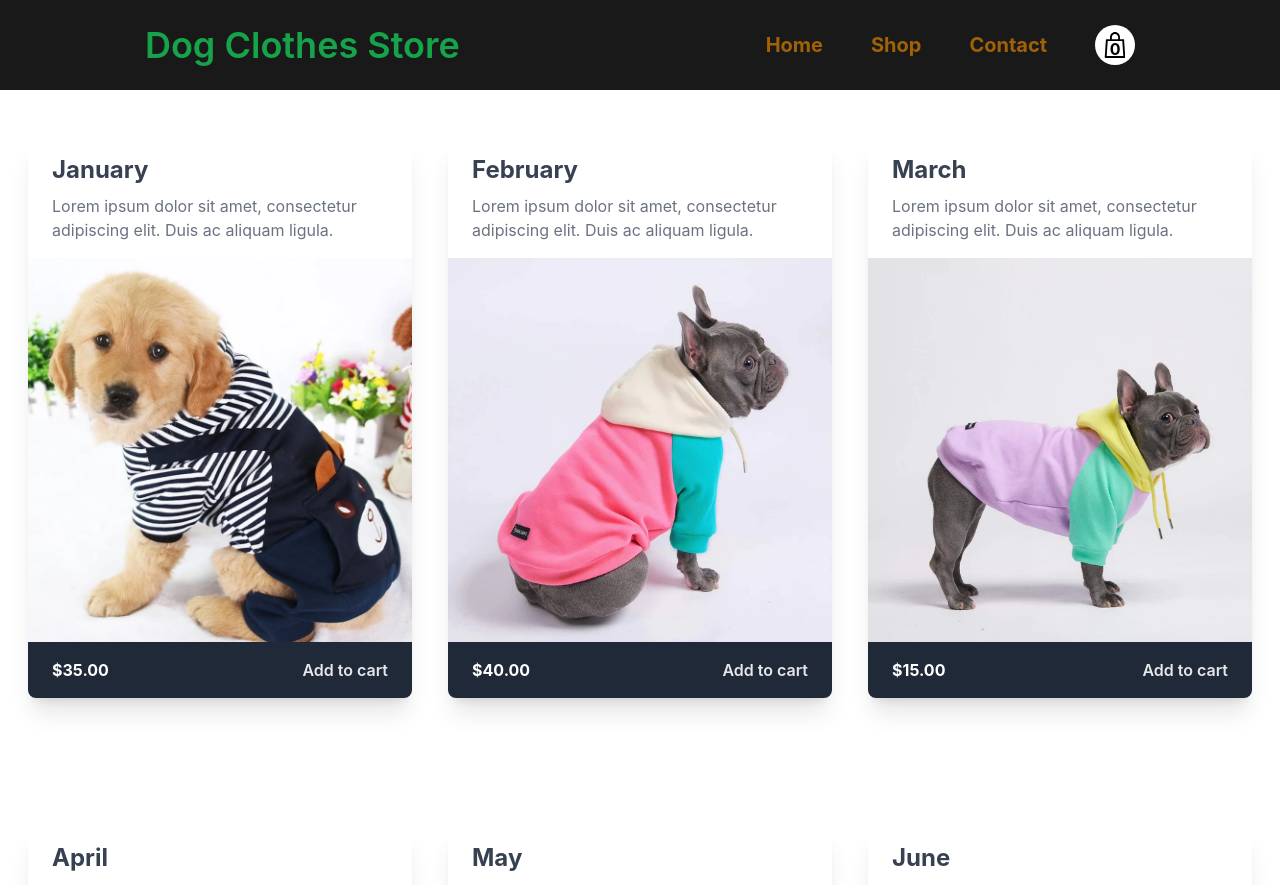
it: It should render the shop page when pressing the button Shop page › render shop page
Click the link "Home".
click(794, 45)  # box [766, 31, 823, 59]
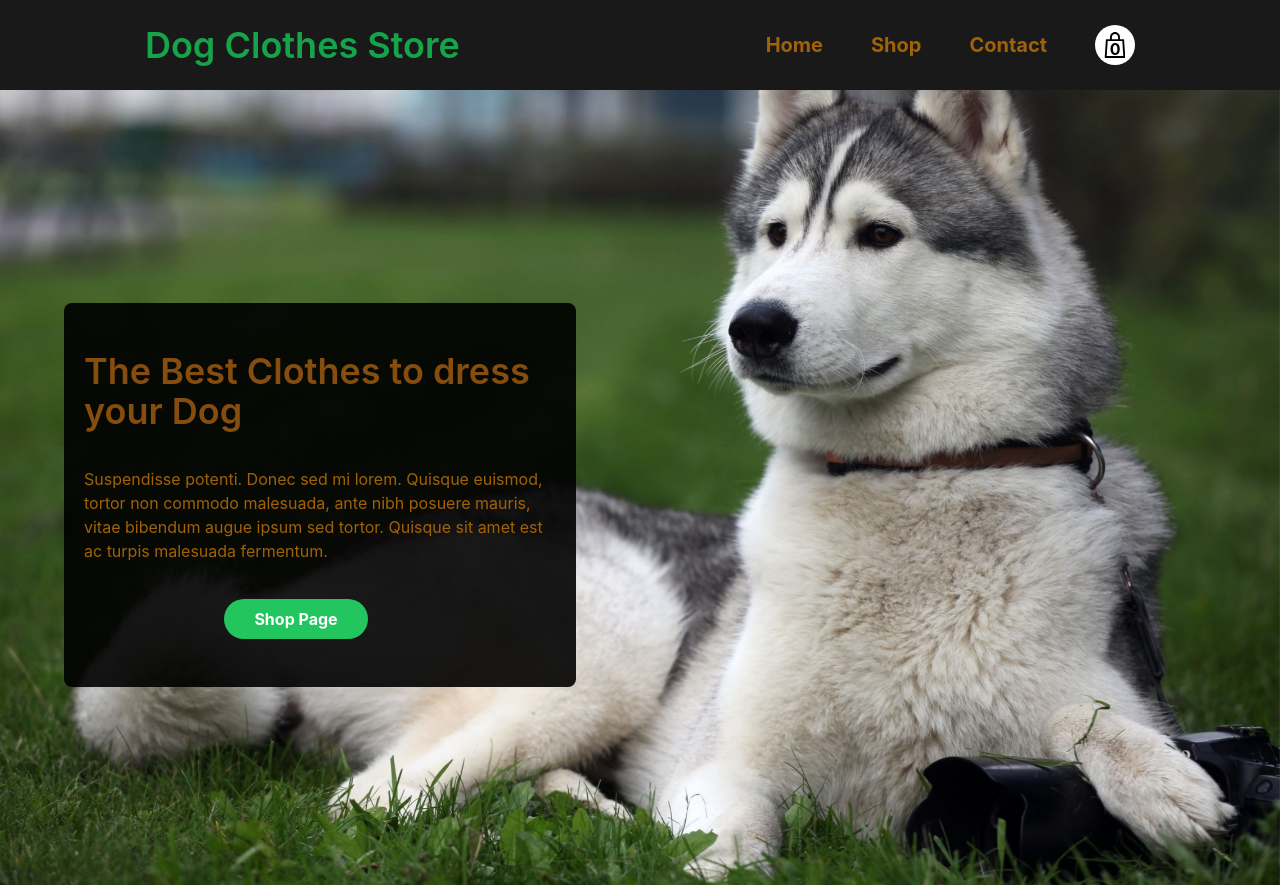
Click the button "Shop Page".
click(296, 619)  # box [224, 599, 368, 639]
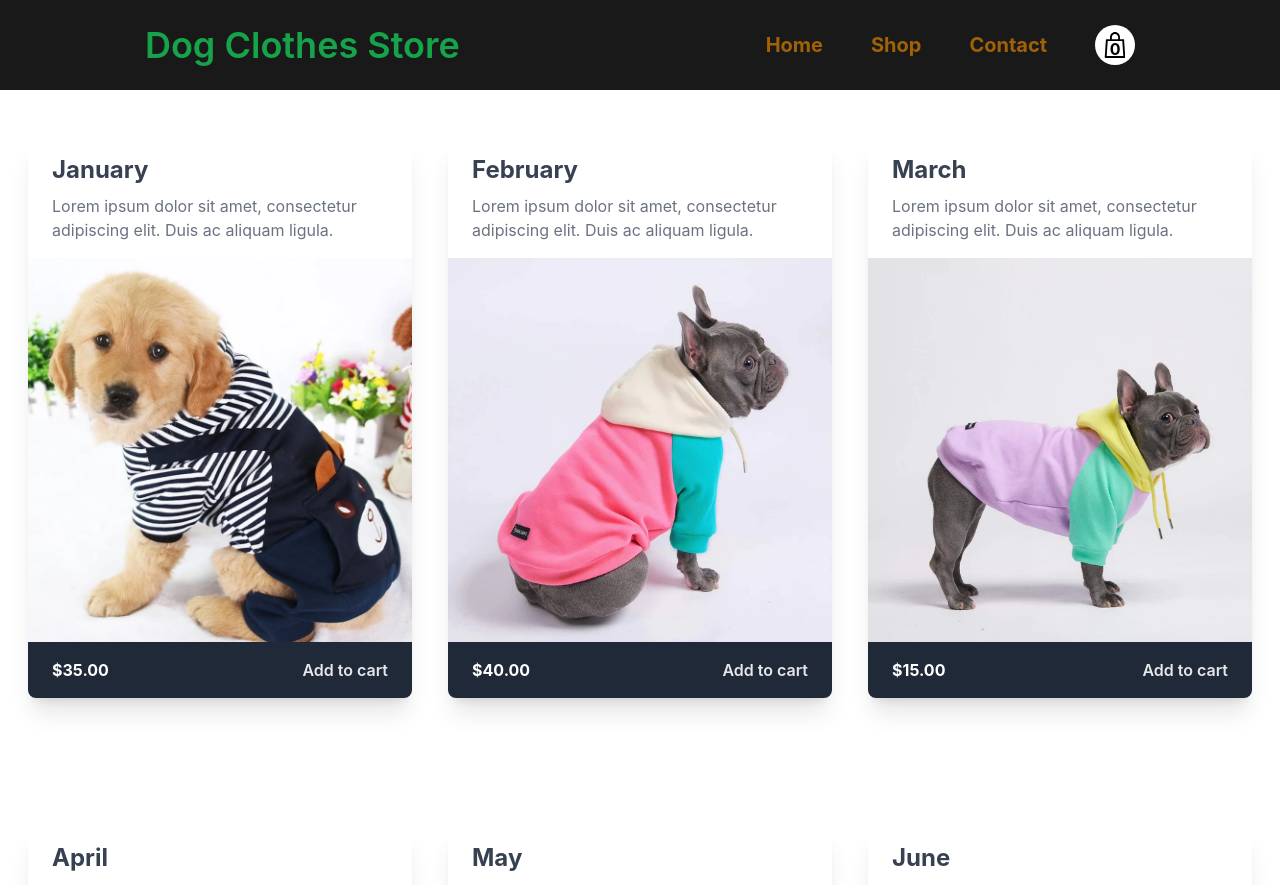
Now the heading "January" is shown, box [52, 155, 148, 184]
